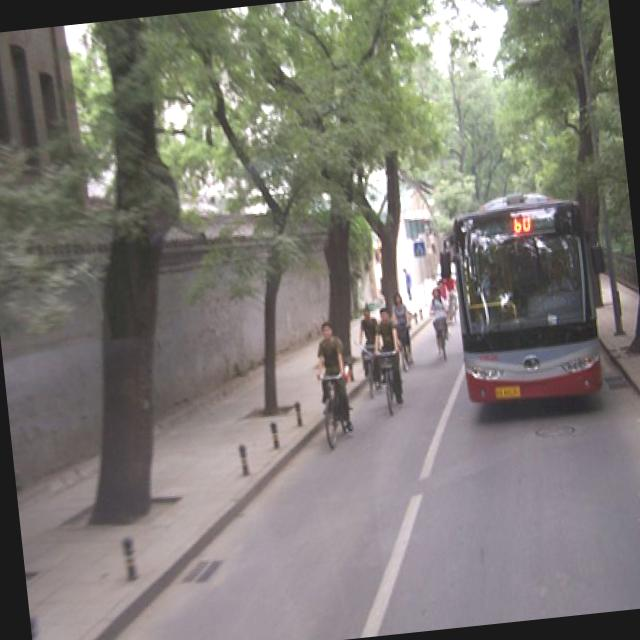Vehicle: (449, 186, 604, 411)
